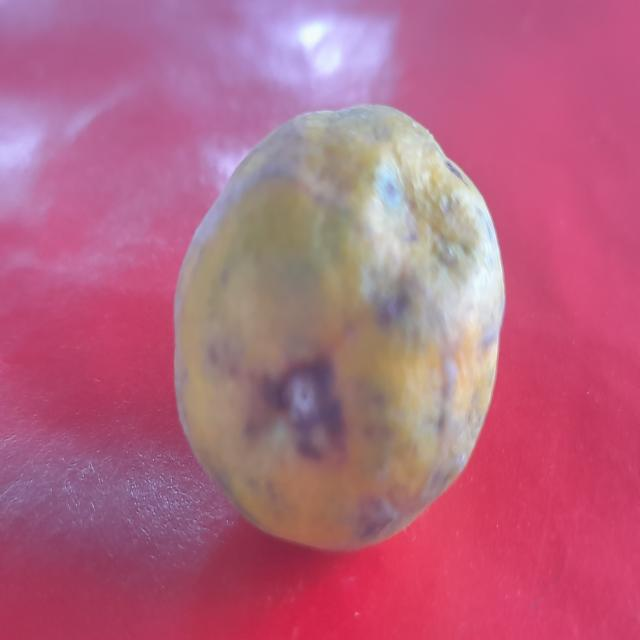black spot: (165, 90, 507, 541)
